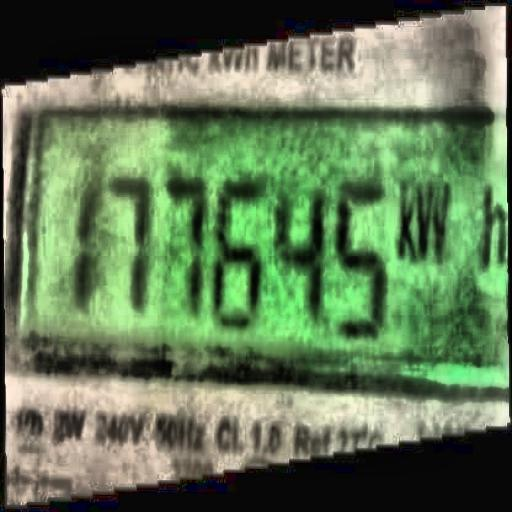DISPLAY_REGION: (9, 99, 512, 395)
SERIAL_REGION: (68, 166, 458, 334)
